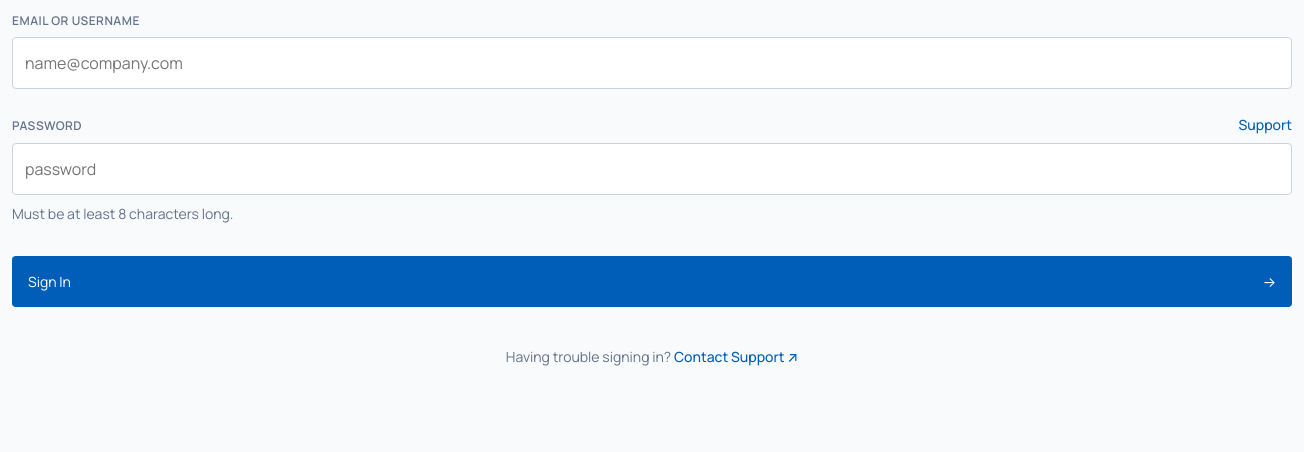
Scenario: LoginForm › shows the returned login error message and does not navigate on failure
Type "demo@example.com" into the field with id "email" at (652, 63), box [12,37,1292,89]
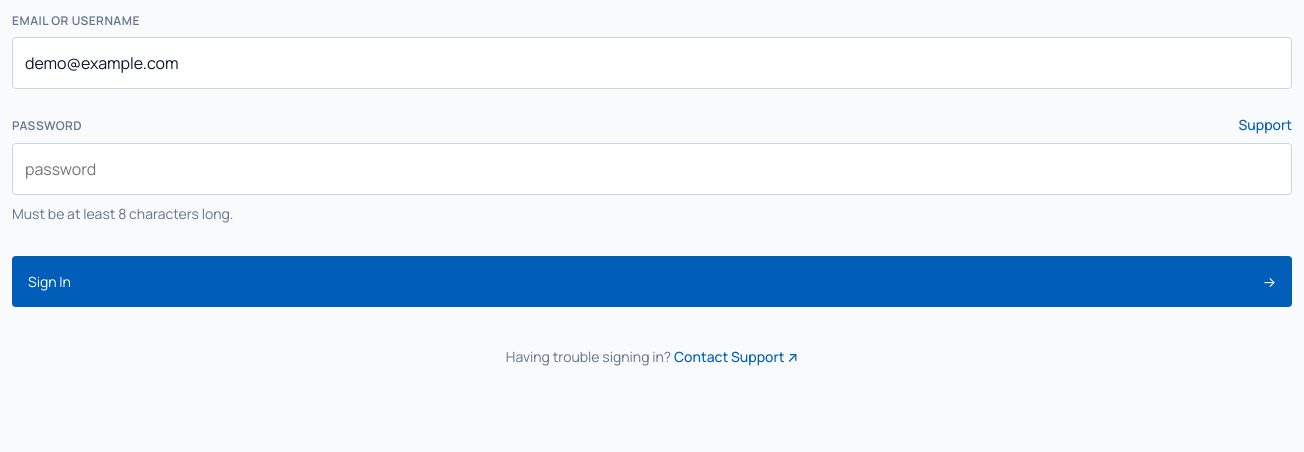
Type "wrong-password" into the password field labelled "Password" at (652, 169), box [12,143,1292,195]
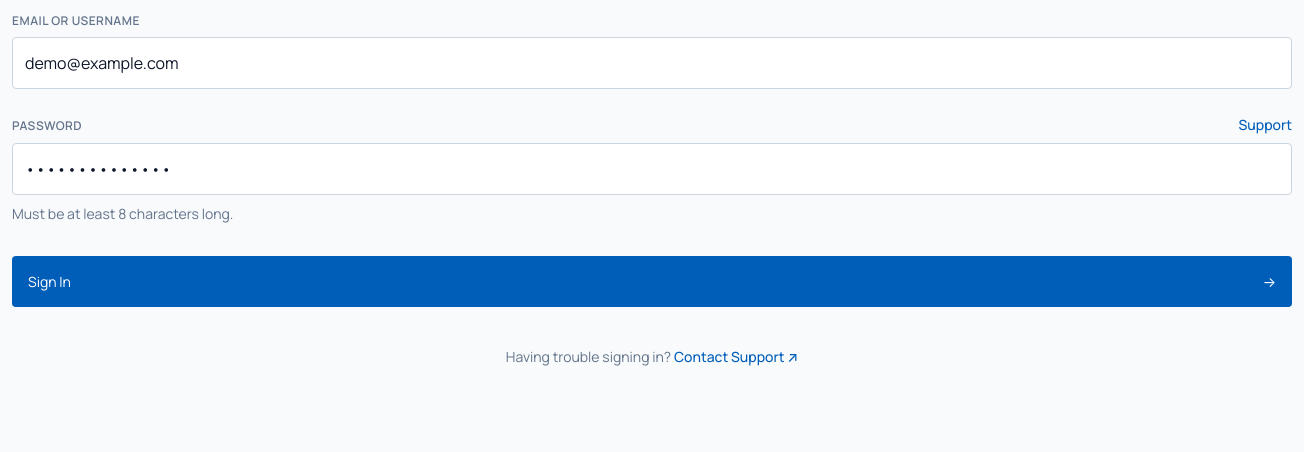
Submit the form
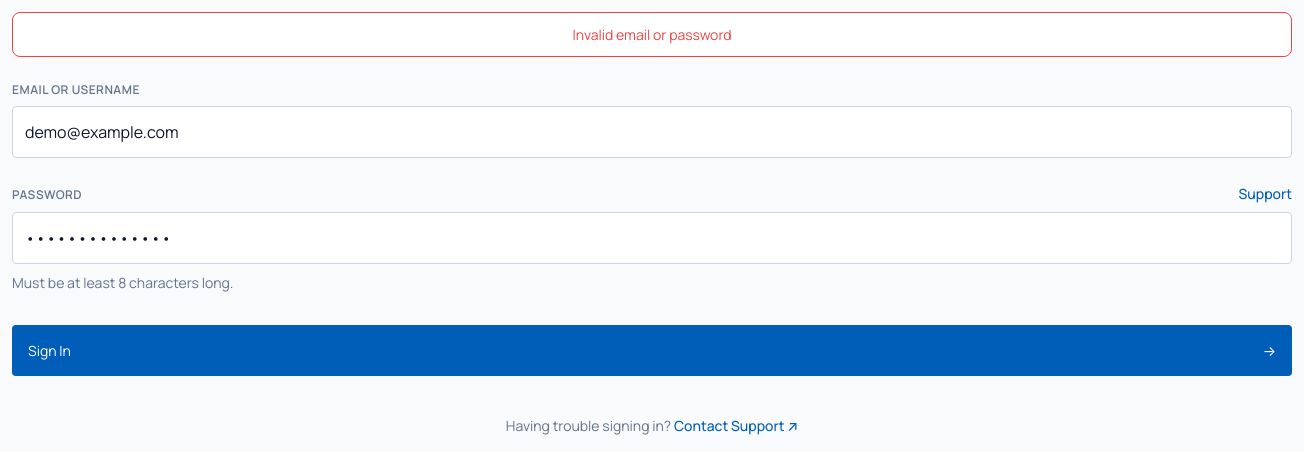
Check: the form shows "Invalid email or password", box [572,25,732,44]
